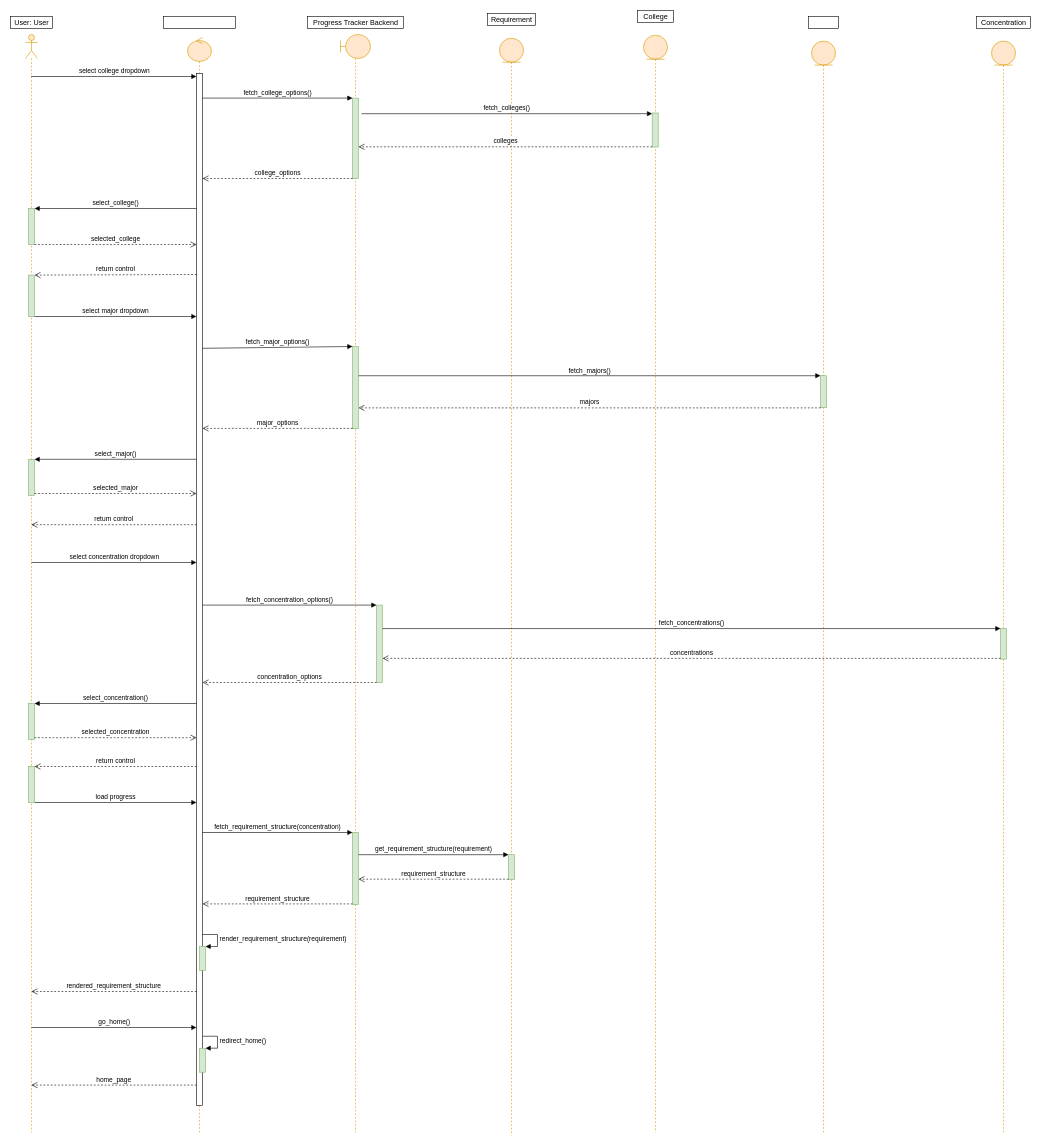
Some shapes in this 1041 by 1146 pixel diagram are drawn without their labels. Here are the shapes that lost their labels. From the top down, the centre of each, then its label:
(199,22): Progress Tracker UI
(823,22): Major
